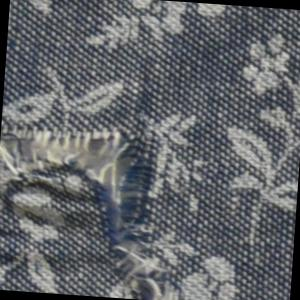Damage: (1, 104, 176, 300)
